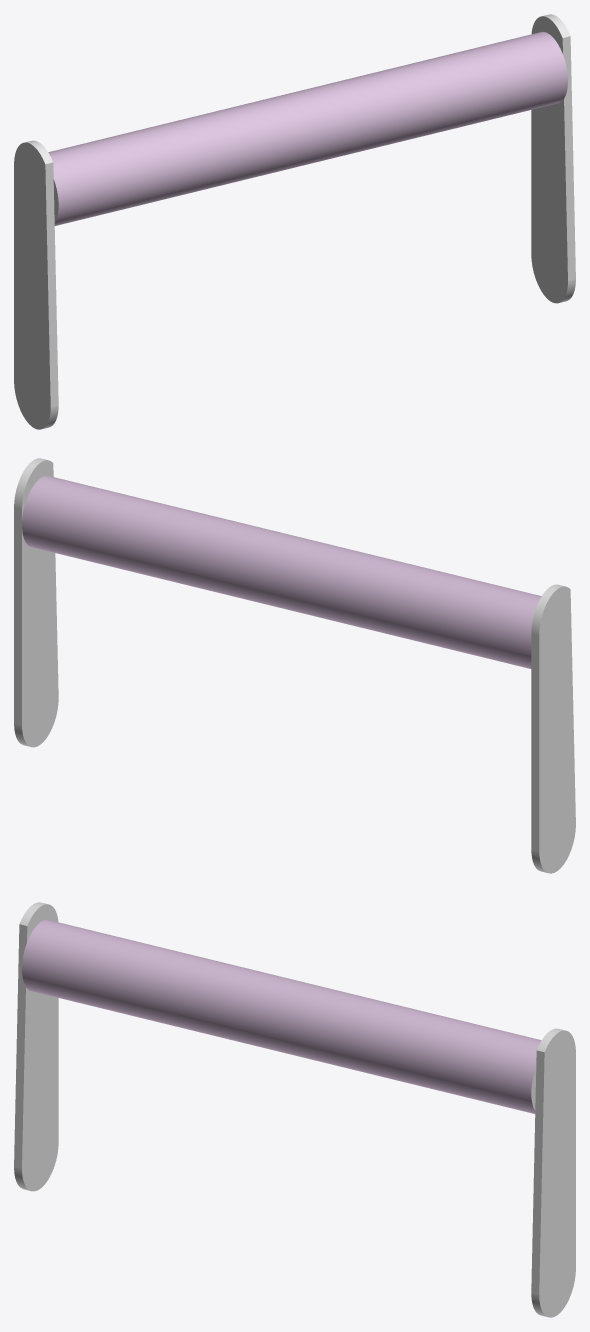
3 renders of one model, top to bottom at view 1: azimuth 30°, elevation 25°; view 2: azimuth 150°, elevation 25°; view 3: azimuth 330°, elevation 25°, orthographic.
Visible parts, largest first — view 1: Part 5; view 2: Part 5; view 3: Part 5.
Boxes of the visible parts, x1,y1,x2,y2 form: Part 5: [14, 14, 575, 429]; Part 5: [14, 458, 575, 873]; Part 5: [14, 902, 575, 1317].
Size of the model in its own units: 0.4191 by 0.215 by 0.0508.
